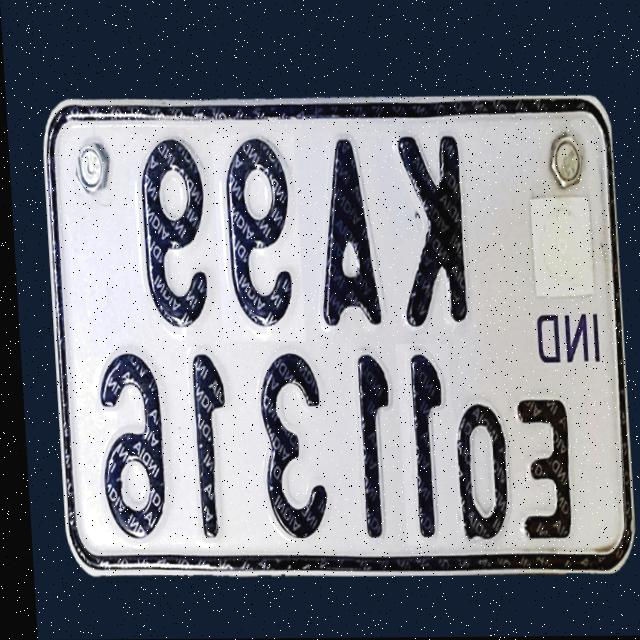plate: (39, 92, 632, 577)
